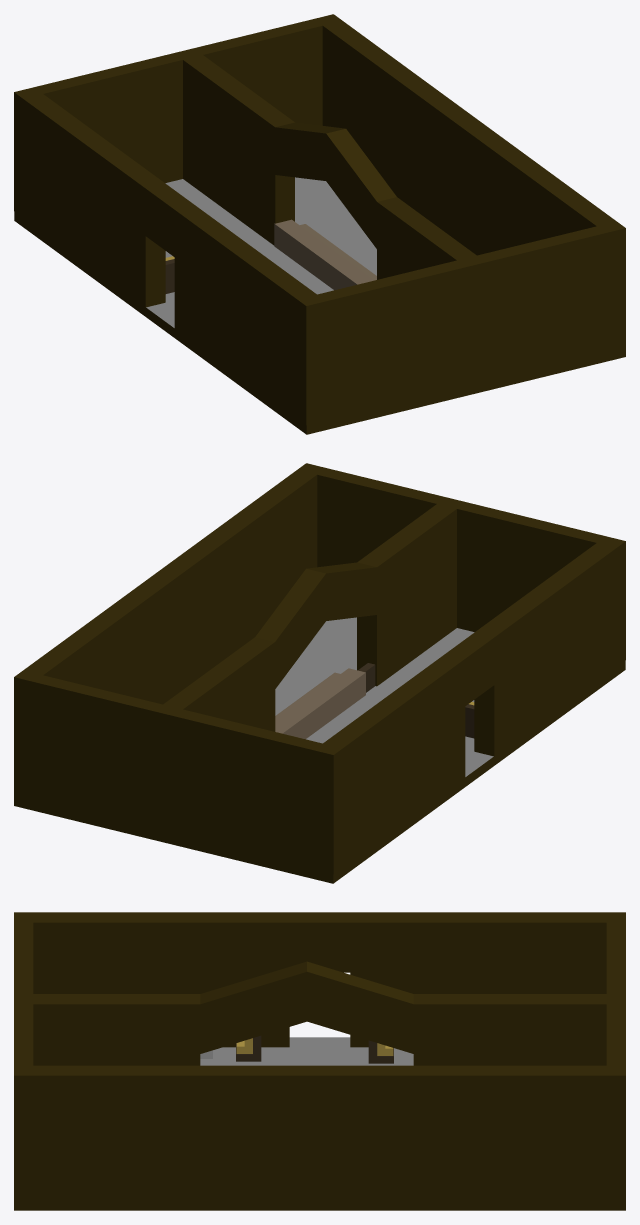
File: Store.fbx
3 views of the same model, one above another, from view 1: azimuth 30°, elevation 25°; view 2: azimuth 150°, elevation 25°; view 3: azimuth 270°, elevation 25° (orthographic). The views are drawn at different scales.
Visible parts, largest first — view 1: Wall, Floor, Counter; view 2: Wall, Floor, Counter; view 3: Wall, Floor.
Boxes of the visible parts, x1=… form: Wall: x1=14, y1=14, x2=625, y2=424; Floor: x1=14, y1=177, x2=625, y2=434; Counter: x1=274, y1=219, x2=376, y2=290; Wall: x1=14, y1=463, x2=625, y2=873; Floor: x1=14, y1=617, x2=625, y2=883; Counter: x1=275, y1=668, x2=365, y2=739; Wall: x1=14, y1=912, x2=625, y2=1200; Floor: x1=14, y1=1037, x2=625, y2=1210.
Size of the model in its own units: 8.75 by 4.18 by 13.87.
